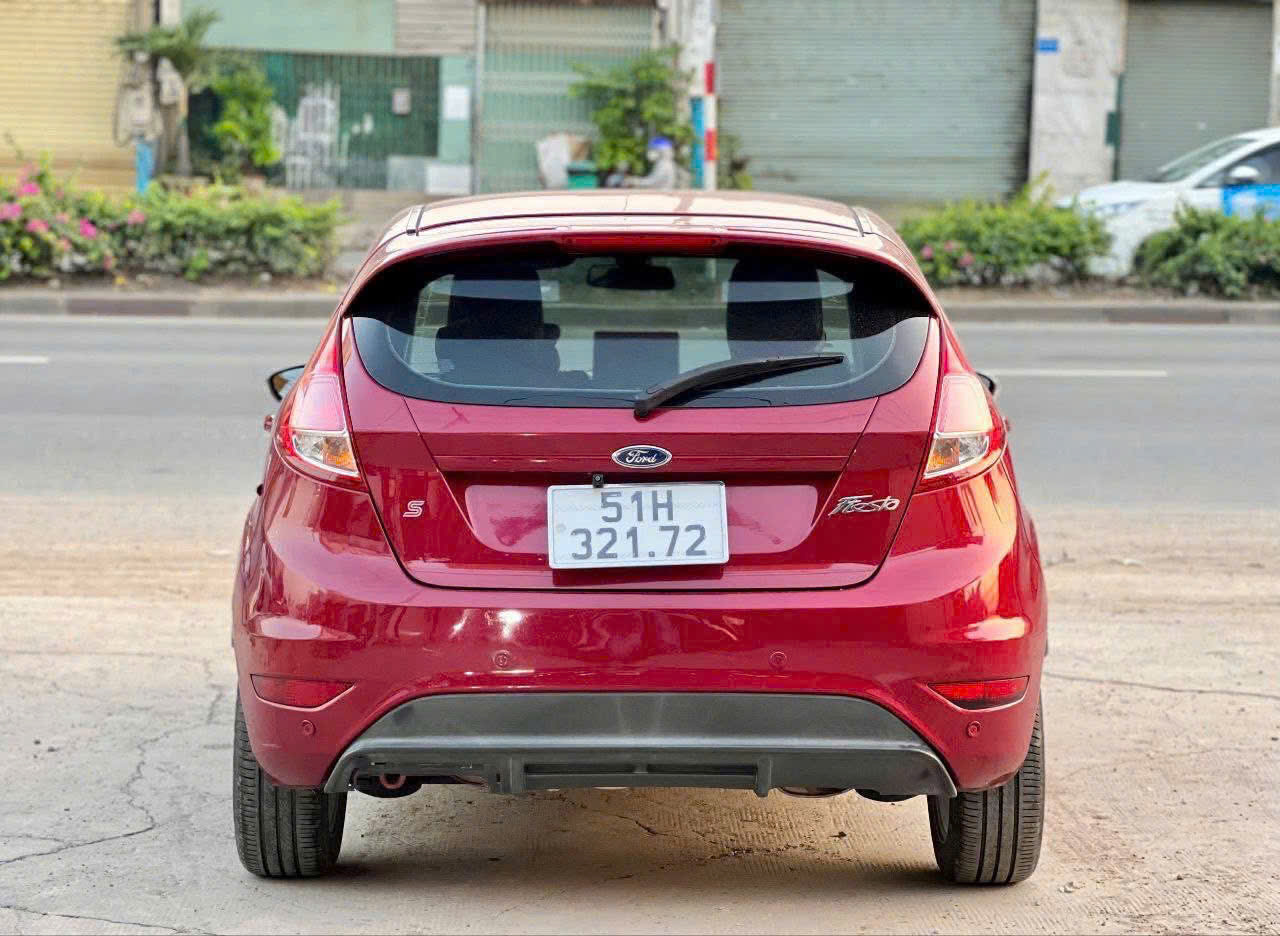Bien-so: (554, 484, 729, 562)
